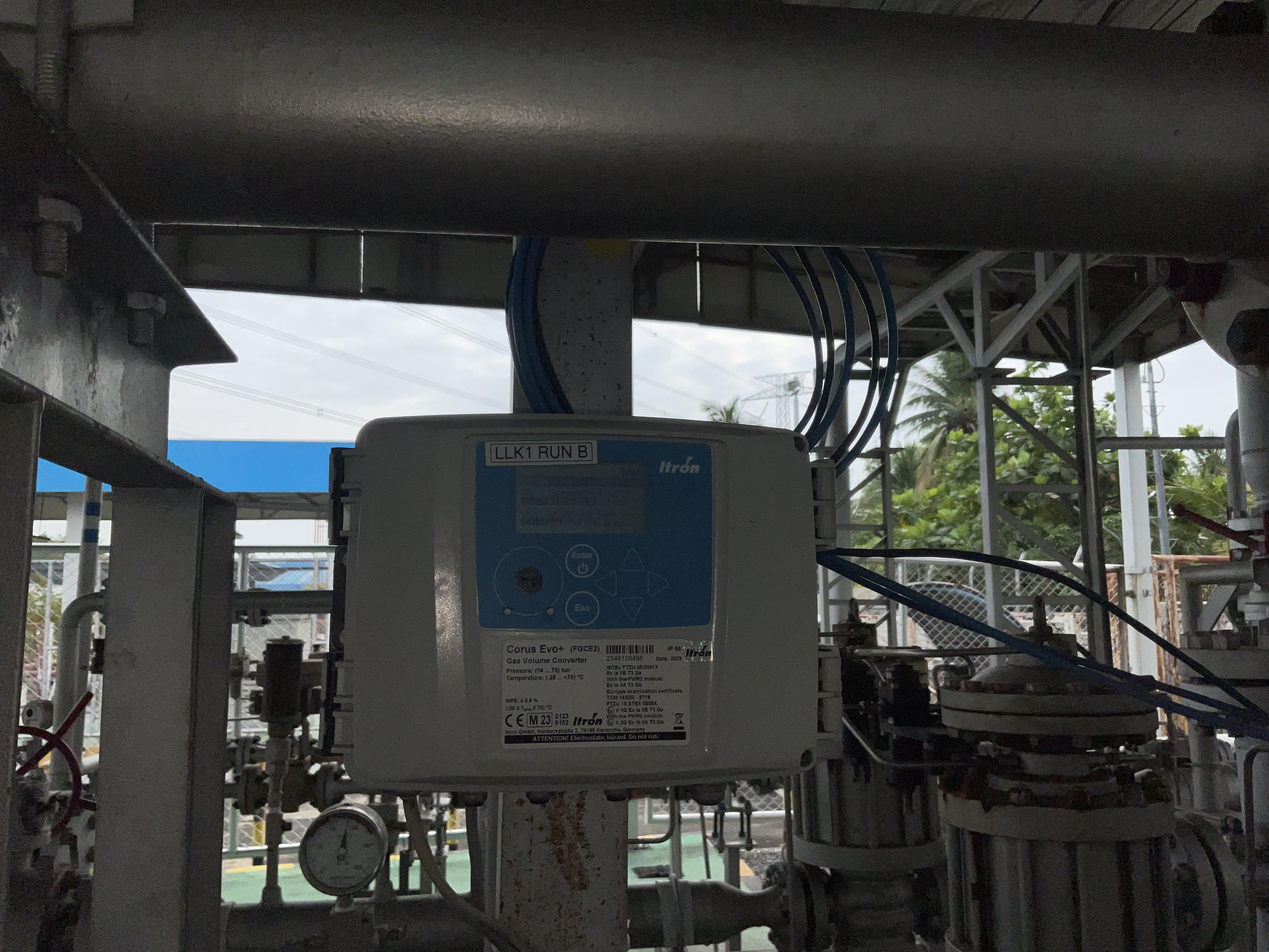digital_screen: (517, 460, 647, 534)
